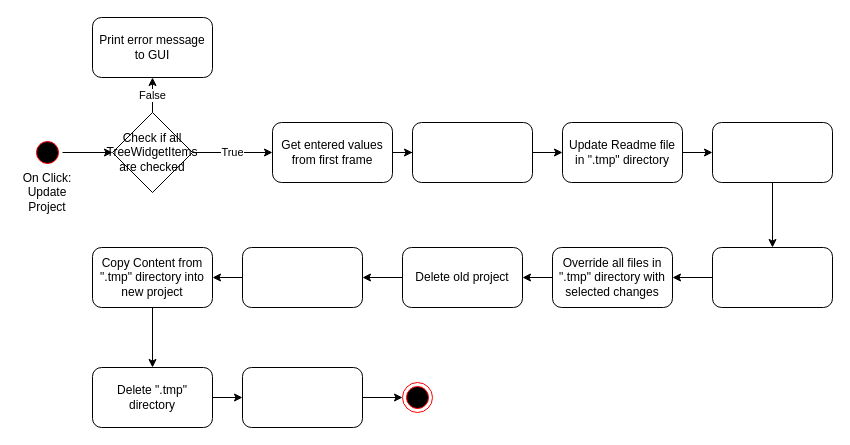
The diagram is 850 pixels wide and 445 high, and some of its shapes have lost their labels. Each missing label, with the centre of its shape:
Create new project directory with new short project name: (302,277)
Go back to main menu: (302,397)
Handle Checkboxes in ".tmp" directory: (772,277)
Update Licenses in ".tmp" directory: (772,152)
Update project_config JSON file in ".tmp" directory: (472,152)
